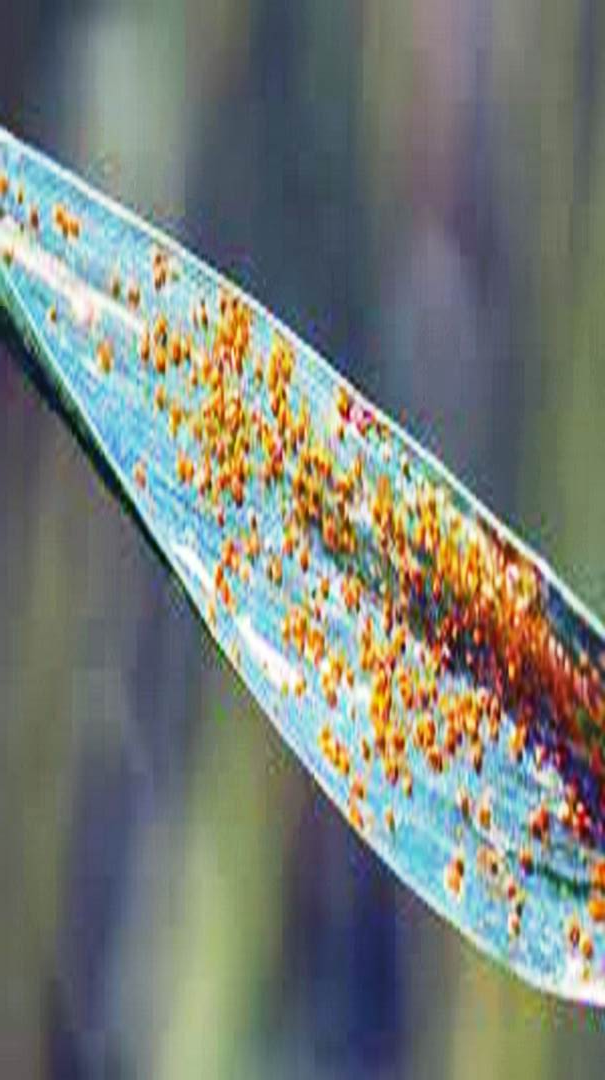Leaf Rust: (143, 287, 523, 863)
